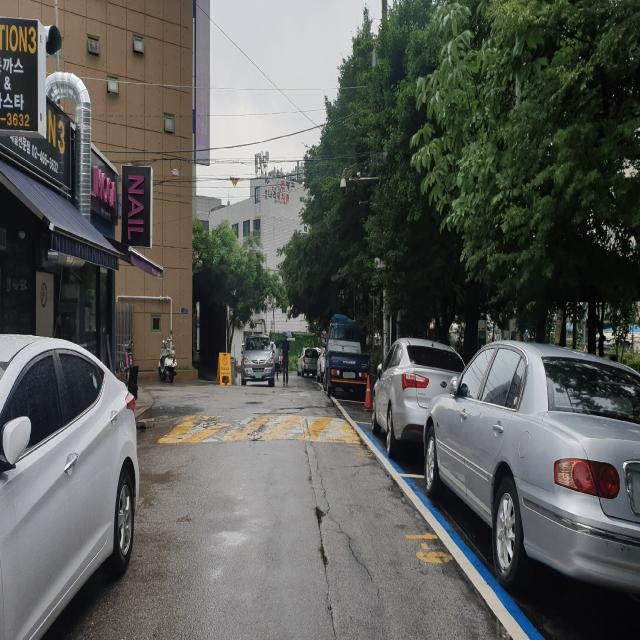car: (422, 339, 640, 592), (0, 337, 137, 640), (371, 339, 467, 460), (322, 316, 372, 397), (241, 334, 275, 386), (296, 348, 319, 377), (318, 344, 324, 383)
motorbike: (158, 338, 178, 383)
